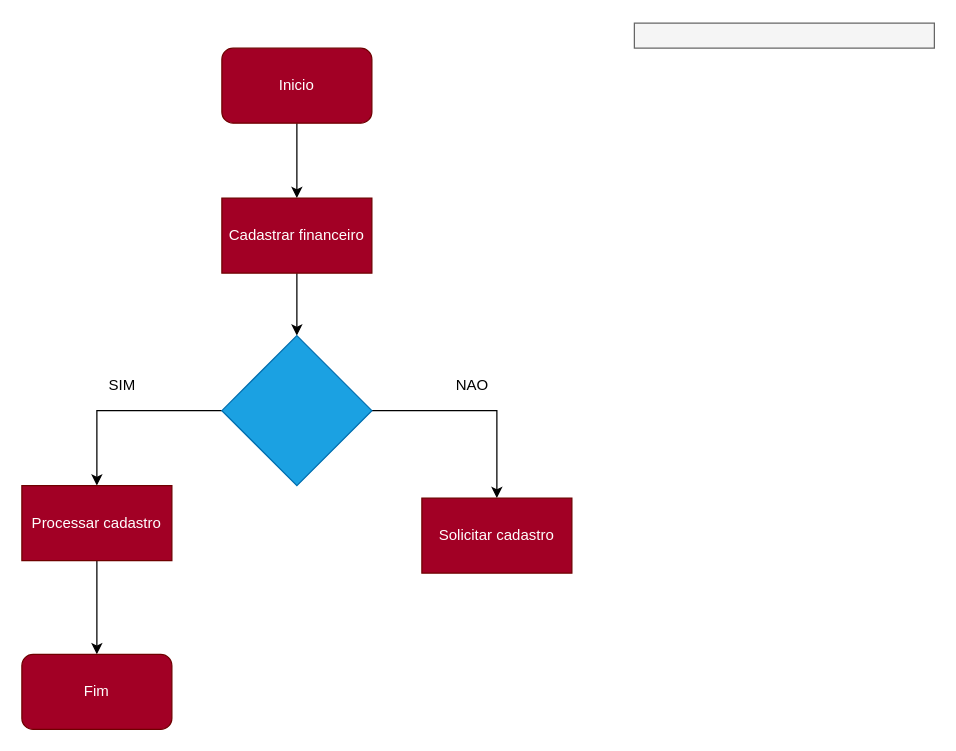
Image size: 956x751. Some labels were removed from this diagram. The shapes that lost their labels are listed below. From the top down, each one's centre as x and y in pixels, then its label:
At pixel 783 35: "RF-017 Cadastrar financeiro".
At pixel 296 410: "Centro de custo cadastrado?".
